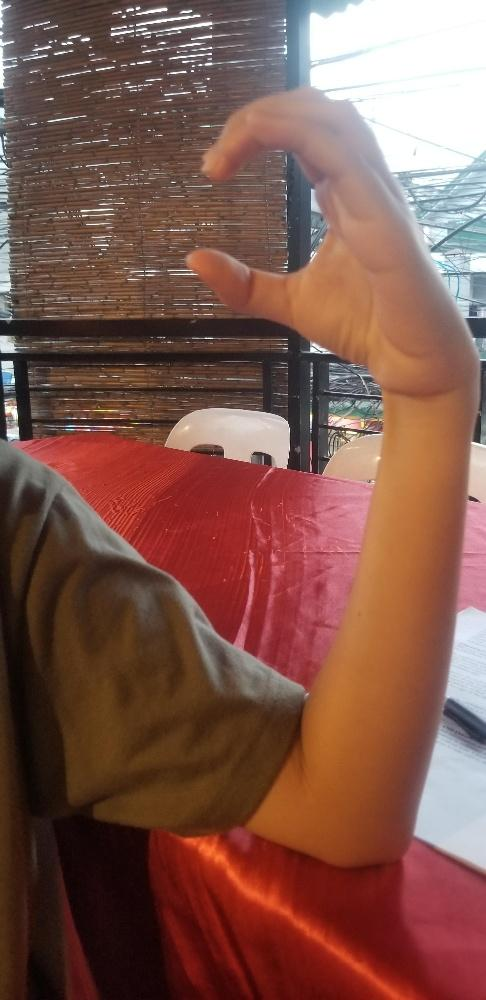c: (186, 88, 479, 391)
